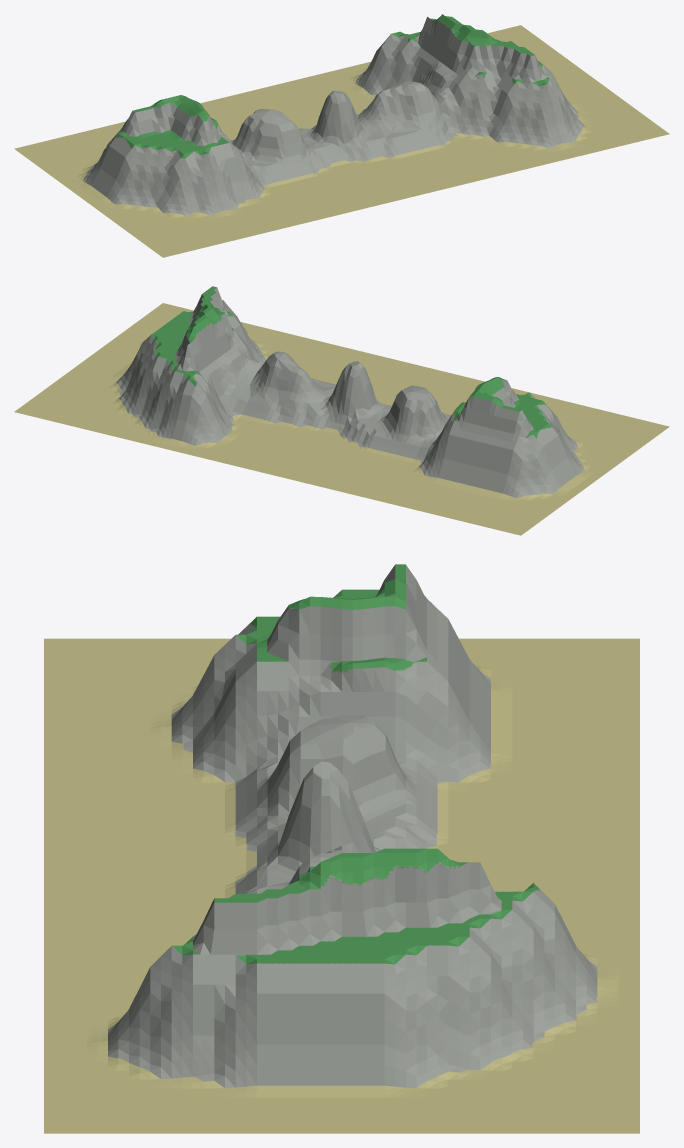
The model's file is Island1.fbx.
The picture shows the model from 3 angles, top to bottom: view 1: azimuth 30°, elevation 25°; view 2: azimuth 150°, elevation 25°; view 3: azimuth 270°, elevation 25°; orthographic projection. The views are drawn at different scales.
Parts seen in each view (by area): view 1: Island1; view 2: Island1; view 3: Island1.
Part boxes in pixels (x1,y1,x2,y2): Island1: (14,14,669,257); Island1: (14,286,669,535); Island1: (44,564,639,1133).
Bounding box in the file's own units: 43289 × 6483 × 22038.
